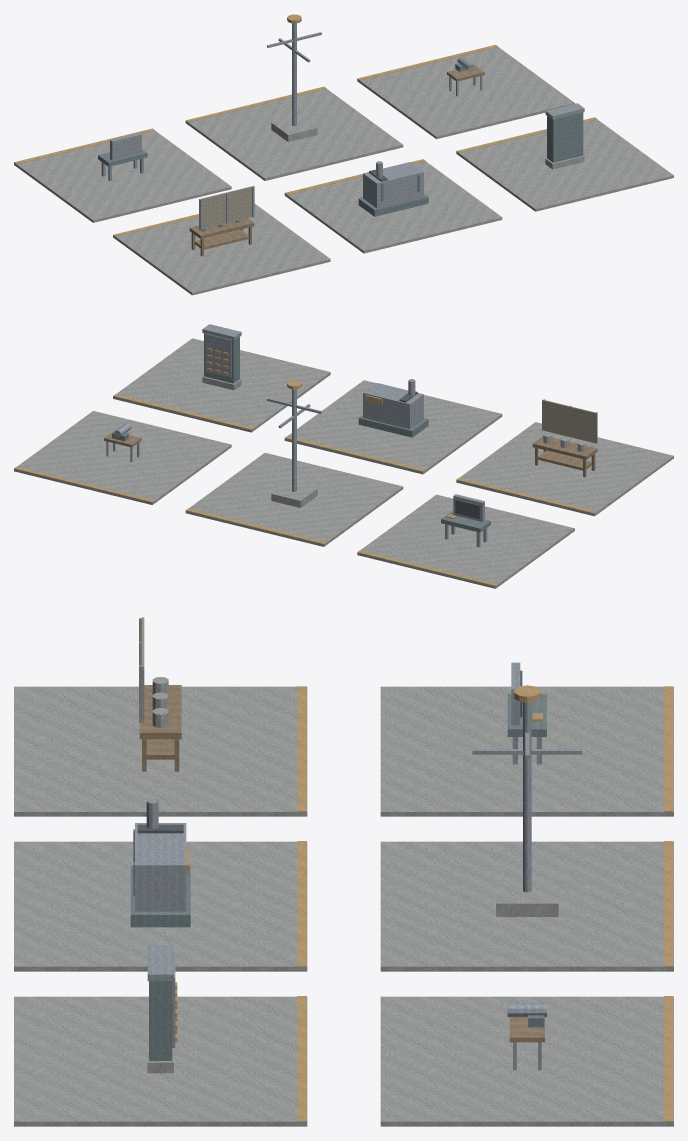
File: level_blockout_kit_wld_08_p01.glb
3 views of the same model, one above another, from view 1: azimuth 30°, elevation 25°; view 2: azimuth 150°, elevation 25°; view 3: azimuth 270°, elevation 25° (orthographic). The views are drawn at different scales.
Visible parts, largest first — view 1: level_blockout_kit_wld_08_p01; view 2: level_blockout_kit_wld_08_p01; view 3: level_blockout_kit_wld_08_p01.
Boxes of the visible parts, left/top/right/bottom form: level_blockout_kit_wld_08_p01: left=14, top=14, right=673, bottom=295; level_blockout_kit_wld_08_p01: left=14, top=324, right=673, bottom=588; level_blockout_kit_wld_08_p01: left=14, top=617, right=673, bottom=1126.
Size of the model in its own units: 19.65 by 4.59 by 12.6.
7 materials, 7 textured.
